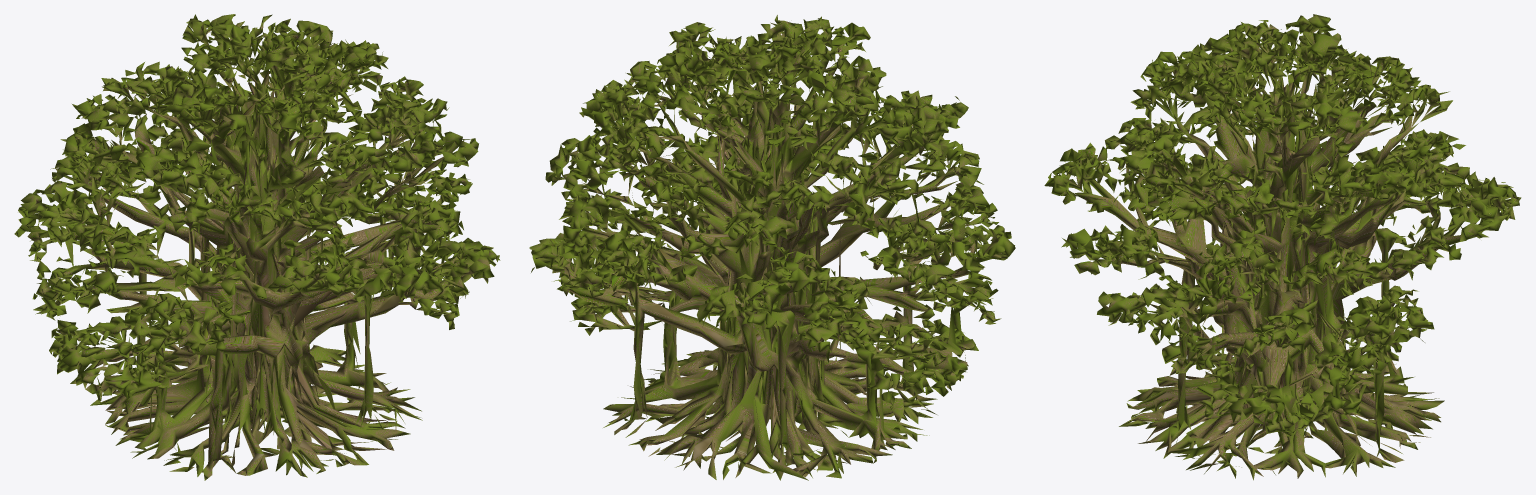
Rendered from banyan.glb.
3 renders of one model, left to right at view 1: azimuth 30°, elevation 25°; view 2: azimuth 150°, elevation 25°; view 3: azimuth 270°, elevation 25°, orthographic.
Size of the model in its own units: 1.8 by 1.63 by 1.87.
1 material, 1 textured.
